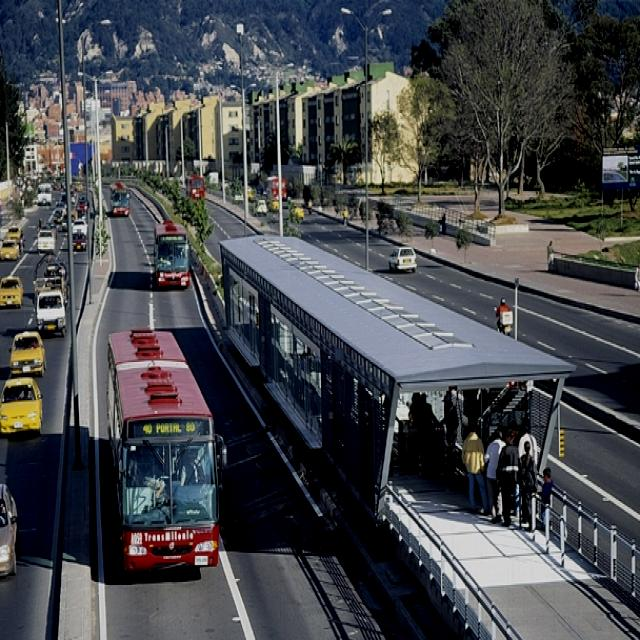BUS: (112, 332, 220, 576), (151, 221, 188, 286)
